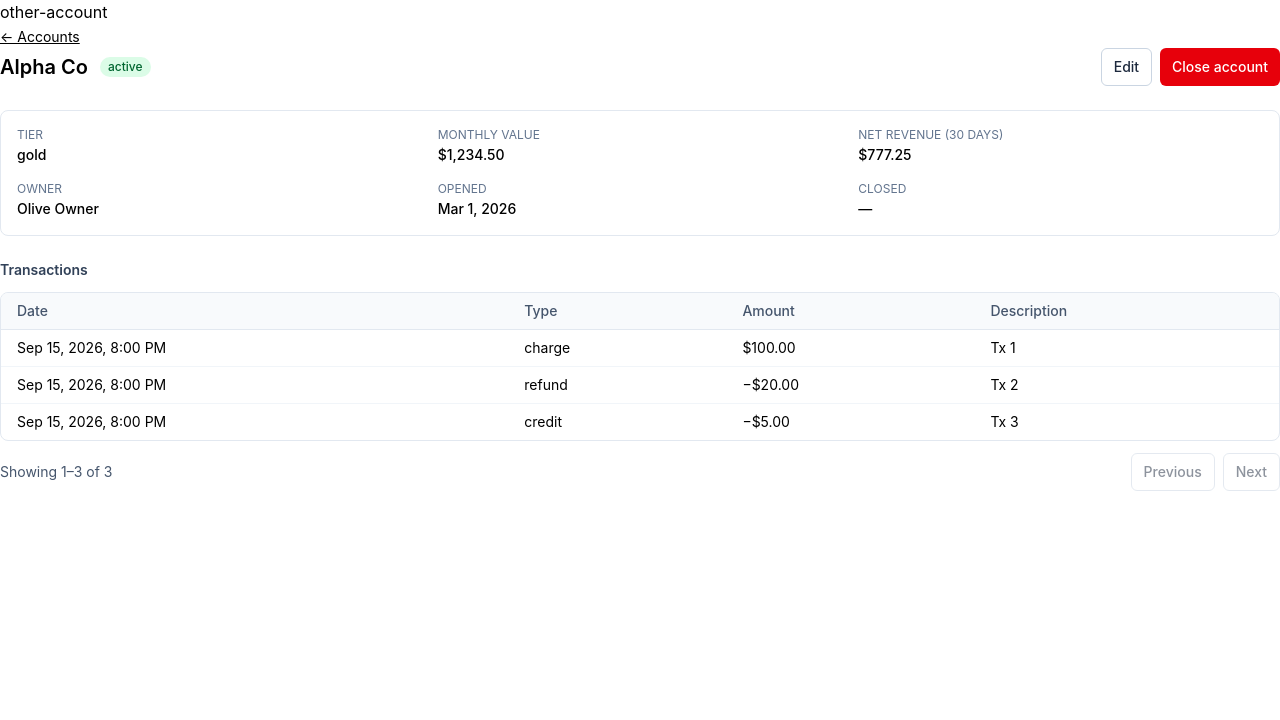
Test case: AccountDetailPage › confirming the close dialog sends PATCH with status closed
The width and height of the screenshot is (1280, 720).
Click the button "Close account". click: [1220, 67]
box: top-left (1160, 48), bottom-right (1279, 86)
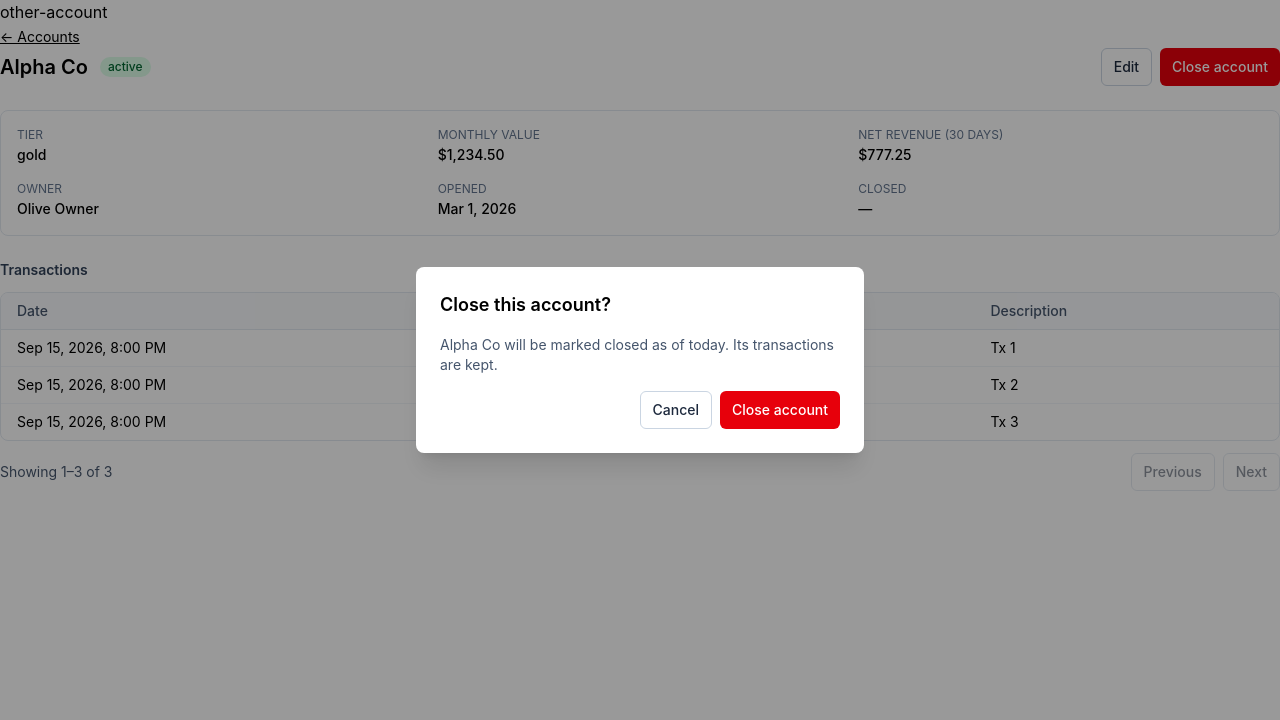
Click the button "Close account". click: [780, 410]
box: top-left (720, 391), bottom-right (840, 429)
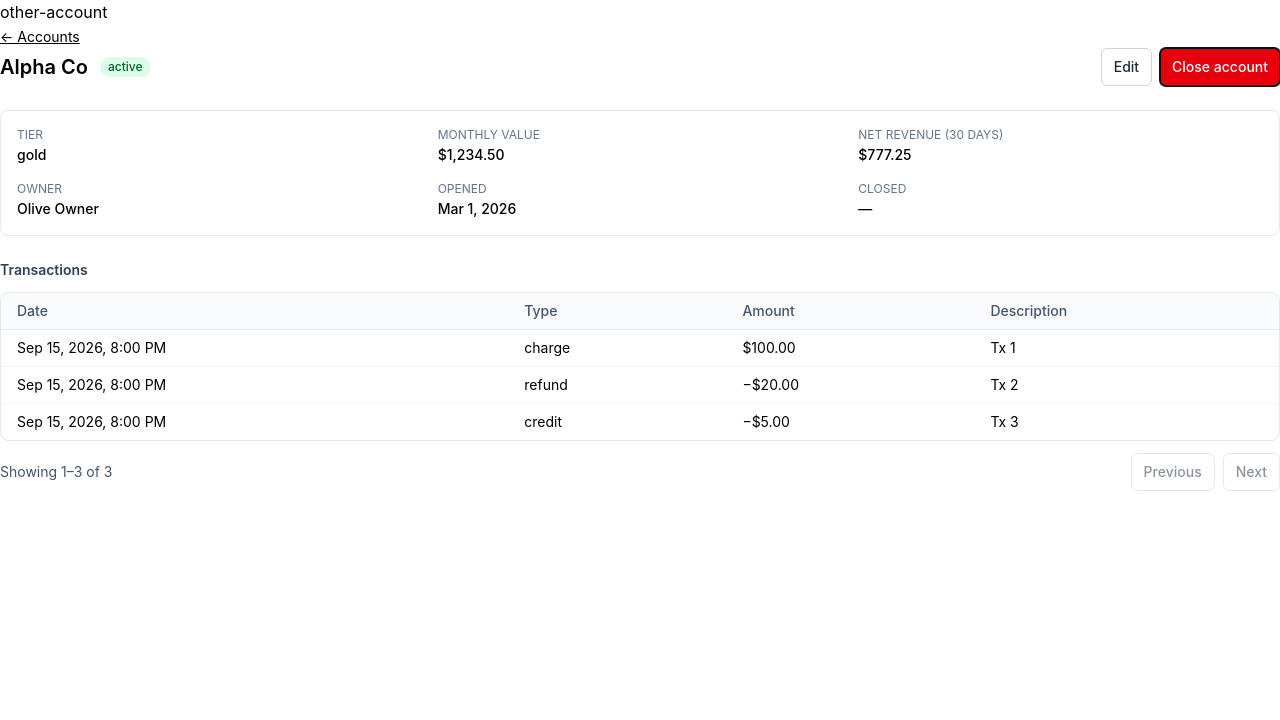
Expected: the heading "Close this account?" is gone
